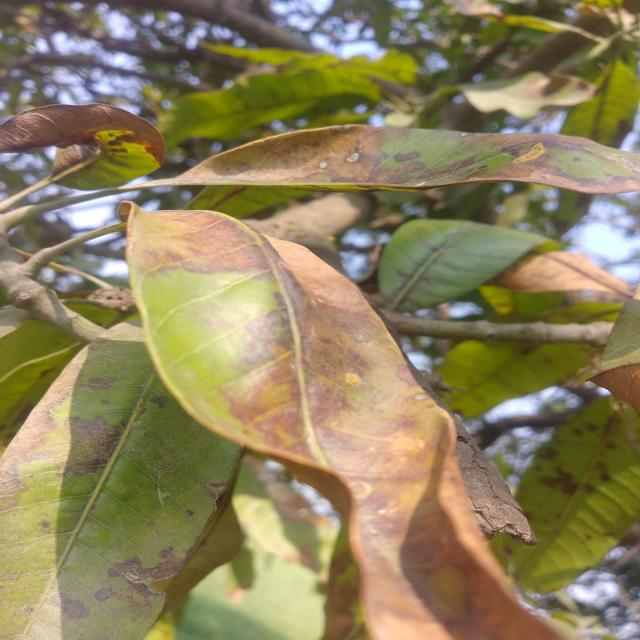Anthracnose: (370, 137, 536, 204)
Bacterial Cancer: (283, 291, 435, 640), (165, 217, 279, 271)
Powdery Mildew: (346, 152, 363, 164), (319, 161, 329, 169)
